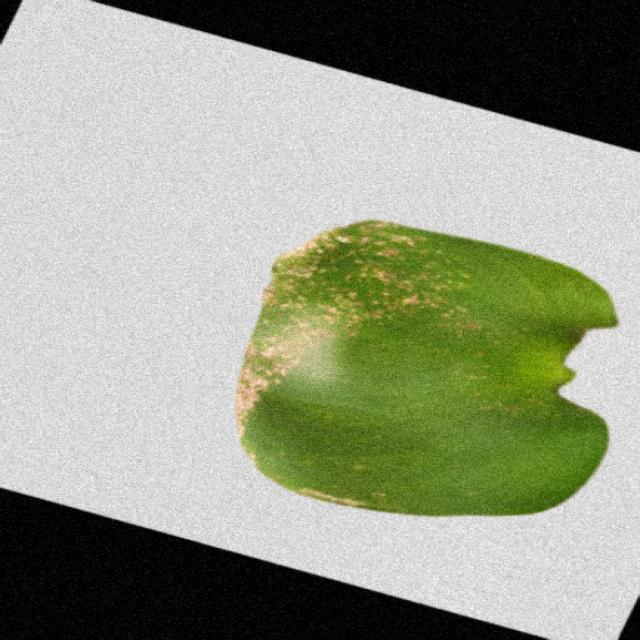daun berpenyakit bercak: (237, 221, 616, 515)
